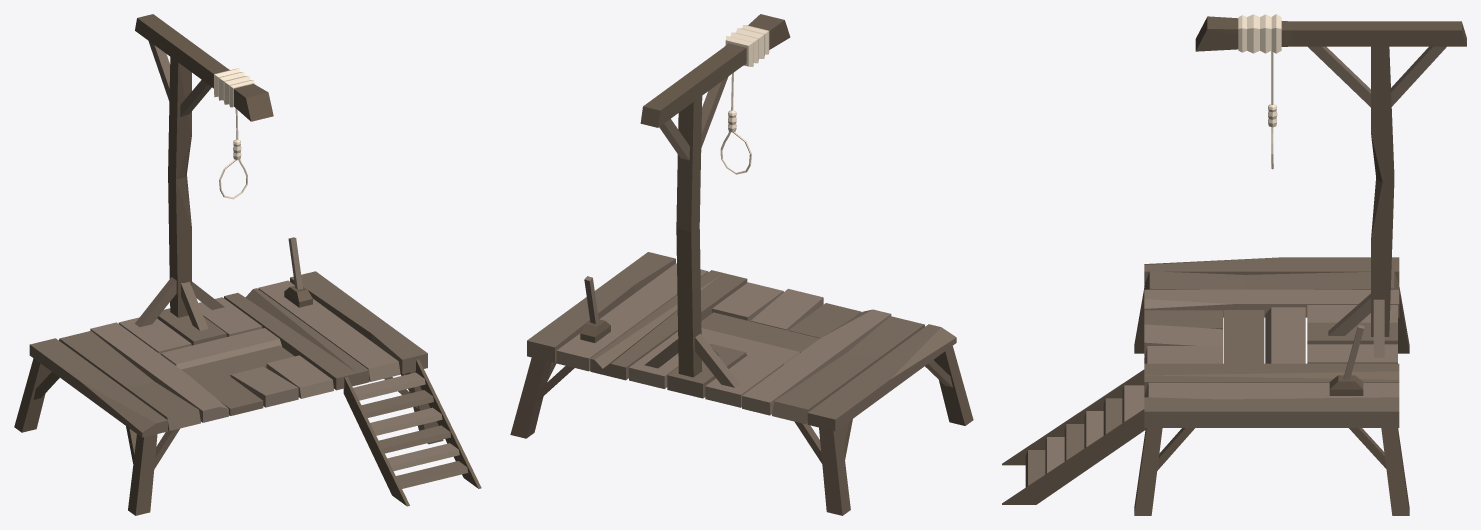
Rendered from gallows.glb.
3 views of the same model, side by side, from view 1: azimuth 30°, elevation 25°; view 2: azimuth 150°, elevation 25°; view 3: azimuth 270°, elevation 25° (orthographic). The views are drawn at different scales.
Visible parts, largest first — view 1: gallows; view 2: gallows; view 3: gallows.
Boxes of the visible parts, x1=… form: gallows: x1=14, y1=14, x2=481, y2=515; gallows: x1=510, y1=14, x2=973, y2=515; gallows: x1=1002, y1=14, x2=1466, y2=515.
Bounding box in the file's own units: 3.47 × 3.89 × 4.
Materials: 1 (1 with a texture image).
